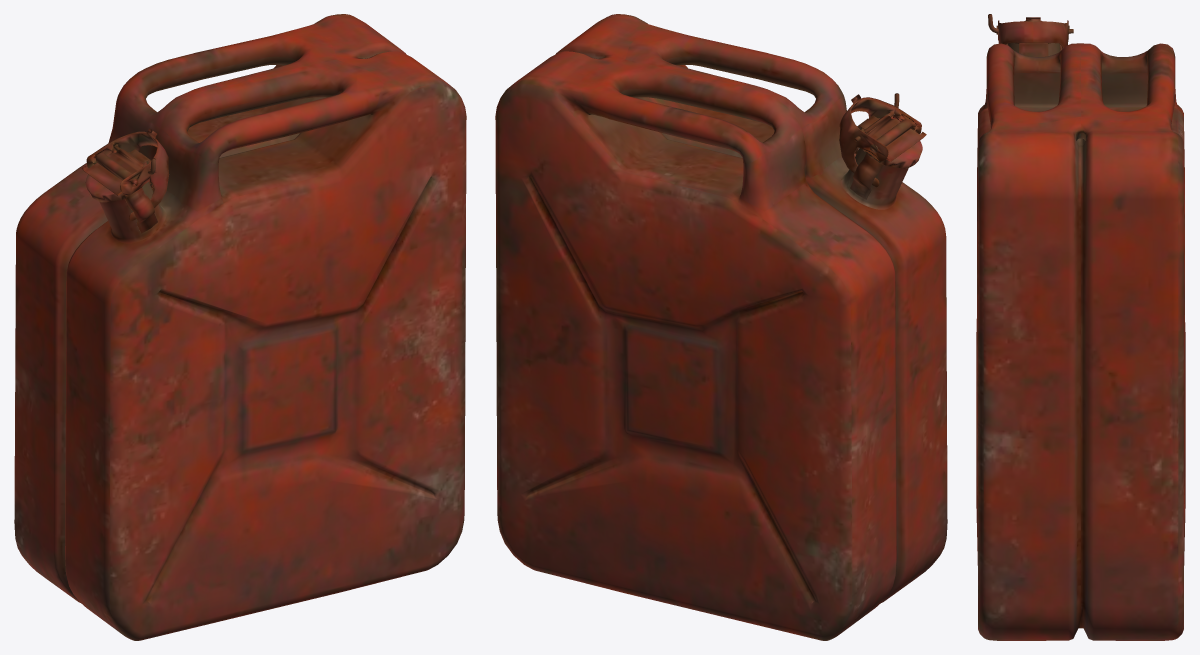
The model's file is metal_jerrycan.glb.
The picture shows the model from 3 angles, left to right: view 1: azimuth 30°, elevation 25°; view 2: azimuth 150°, elevation 25°; view 3: azimuth 270°, elevation 25°; orthographic projection. The views are drawn at different scales.
Parts seen in each view (by area): view 1: metal_jerrycan; view 2: metal_jerrycan; view 3: metal_jerrycan.
Part boxes in pixels (x1,y1,x2,y2): metal_jerrycan: (14, 14, 466, 640); metal_jerrycan: (495, 14, 947, 640); metal_jerrycan: (976, 14, 1185, 640).
Size of the model in its own units: 0.3502 by 0.455 by 0.1717.
Materials: 1 (1 with a texture image).
